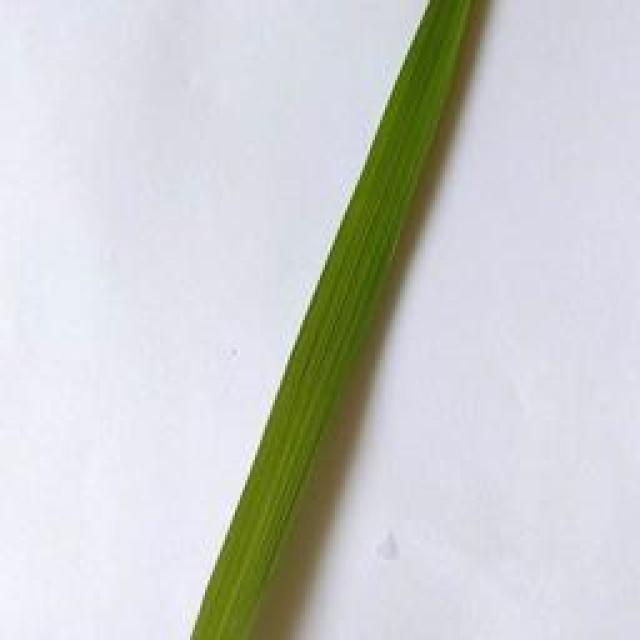Healthy-Plant: (187, 0, 469, 640)
